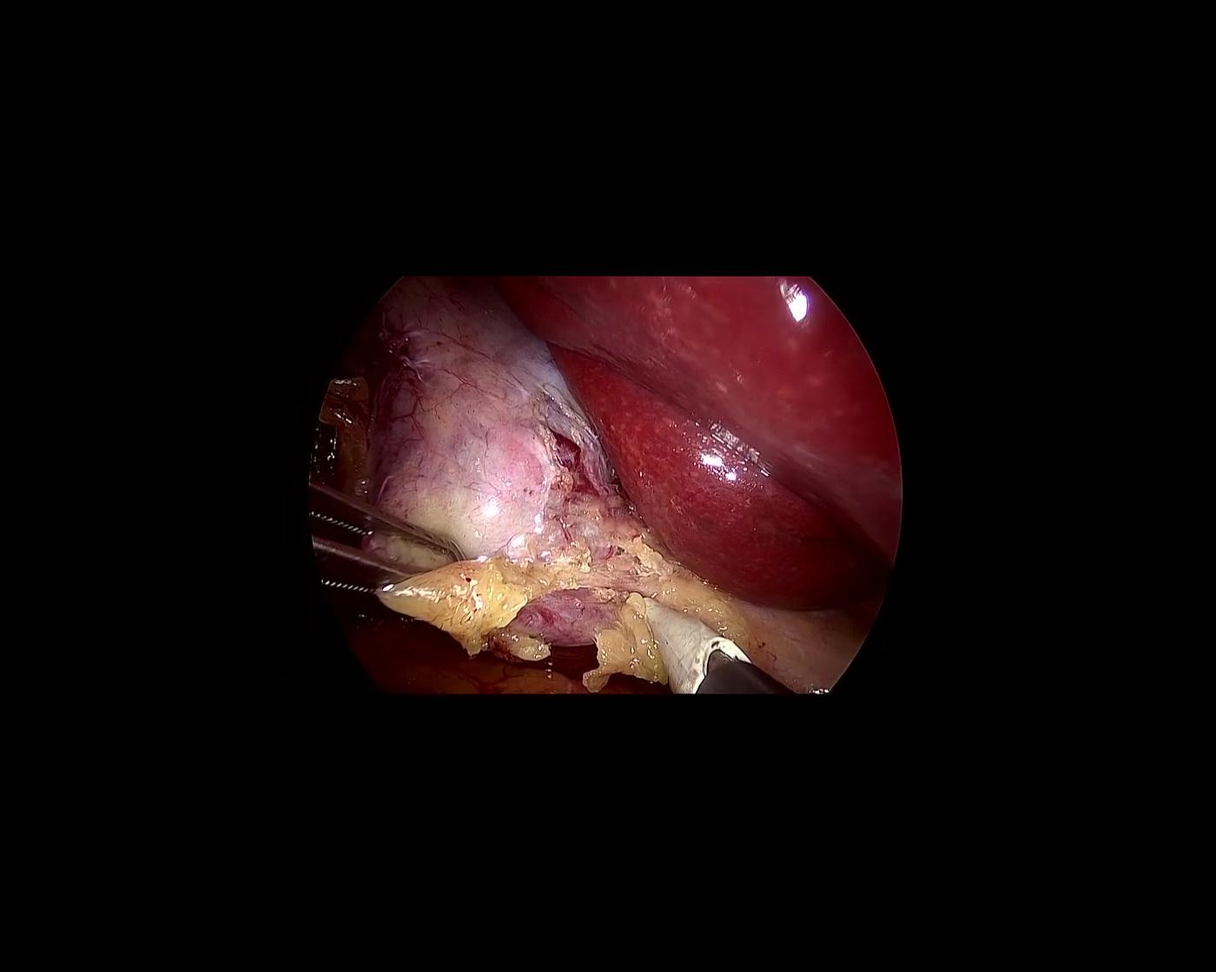Cautery: (613, 592, 806, 744)
Forceps: (277, 480, 475, 636)
Gallbladder: (247, 234, 685, 725)
Liver: (500, 275, 902, 613)
